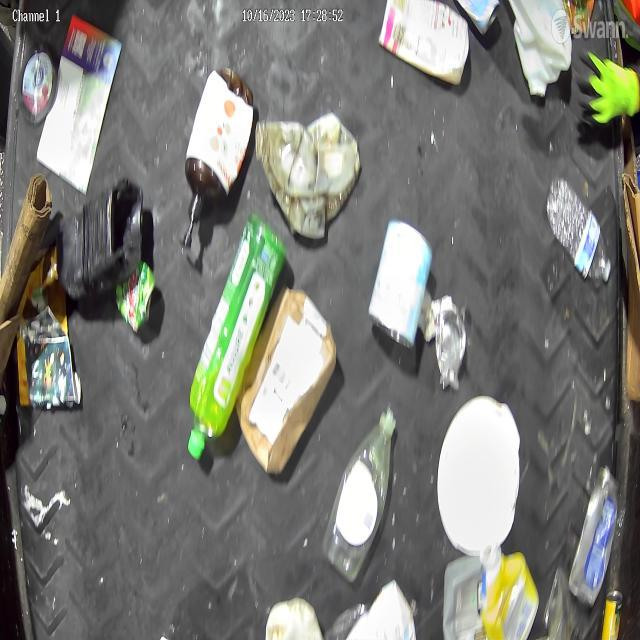can: (373, 212, 433, 365)
non_white_jug: (188, 210, 286, 454)
plastic_bottle: (546, 172, 620, 297)
